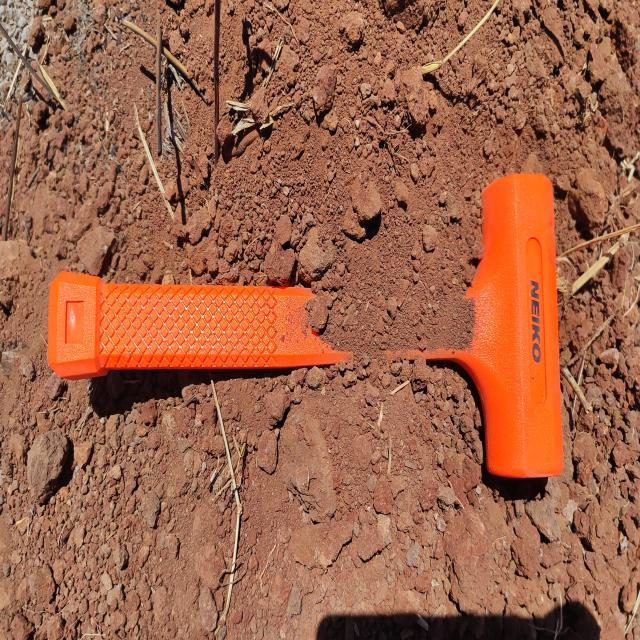Orange_hammer: (46, 169, 572, 490)
